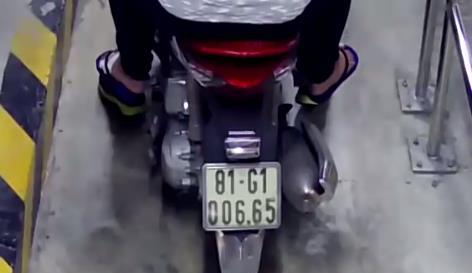lisence: (202, 163, 283, 229)
